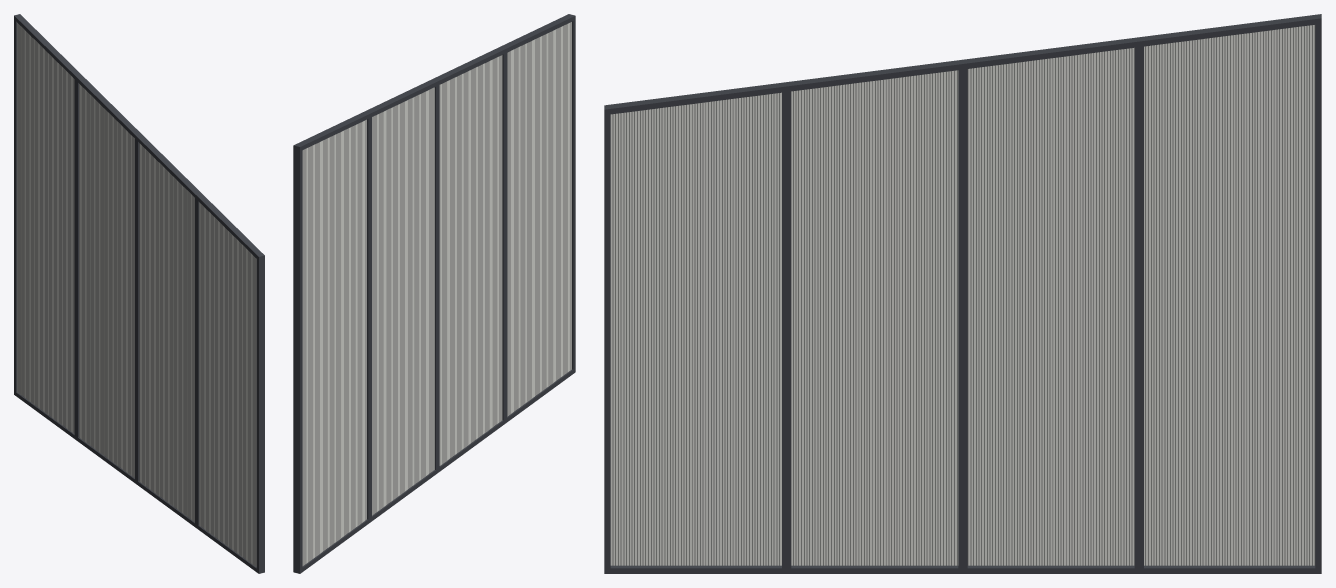
The model's file is nebbiolo_sidewall_left_600_350.glb.
The picture shows the model from 3 angles, left to right: view 1: azimuth 30°, elevation 25°; view 2: azimuth 150°, elevation 25°; view 3: azimuth 270°, elevation 25°; orthographic projection. The views are drawn at different scales.
Visible parts, largest first — view 1: sidewall_left_600_350; view 2: sidewall_left_600_350; view 3: sidewall_left_600_350.
Boxes of the visible parts, x1,y1,x2,y2 form: sidewall_left_600_350: (14, 14, 264, 573); sidewall_left_600_350: (293, 14, 575, 573); sidewall_left_600_350: (604, 14, 1321, 573).
Bounding box in the file's own units: 0.05 × 2.99 × 3.5.
2 materials, 2 textured.
